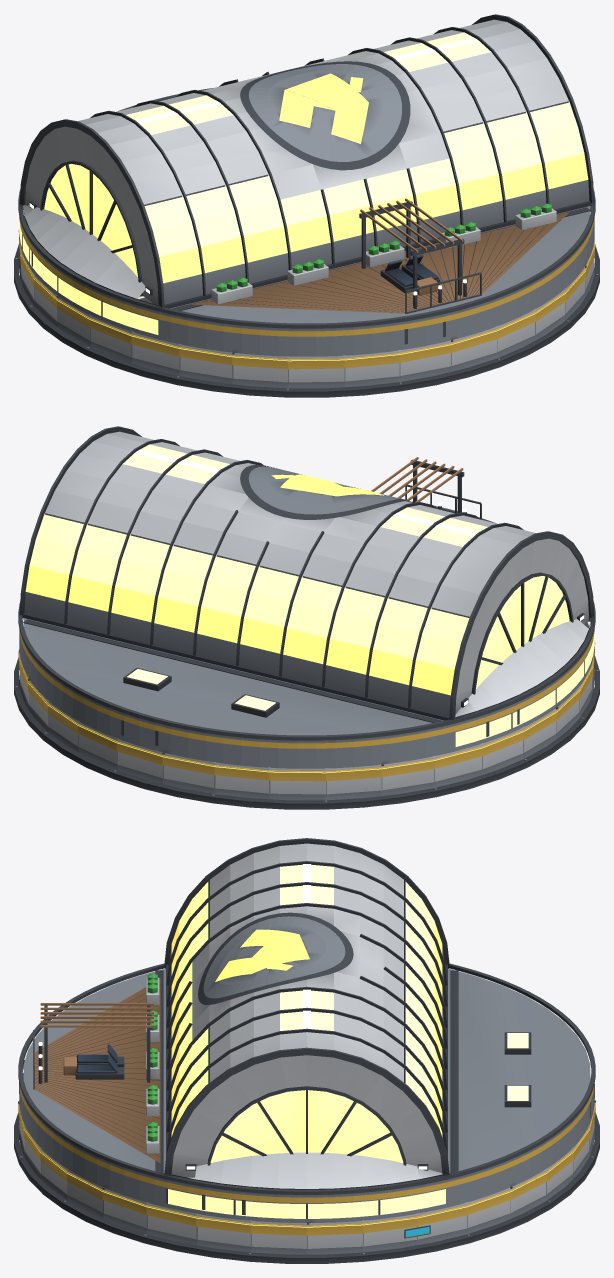
File: residence_tube_executive_l.glb
The picture shows the model from 3 angles, top to bottom: view 1: azimuth 30°, elevation 25°; view 2: azimuth 150°, elevation 25°; view 3: azimuth 270°, elevation 25°; orthographic projection.
Parts seen in each view (by area): view 1: Roof, PorchTop, Base, Wall_21, Wall_20, Wall_22, Wall_19, Wall_23, Upper_21, Upper_20, Upper_22, Wall_18 (+17 smaller); view 2: Roof, Base, PorchTop, Wall_10, Wall_11, Wall_09, Wall_12, Wall_08, Upper_10, Upper_11, Upper_09, Wall_13 (+17 smaller); view 3: Roof, PorchTop, Base, Wall_00, Wall_31, Wall_30, Wall_01, Wall_29, Upper_00, Upper_31, Upper_01, Wall_02 (+17 smaller).
Part boxes in pixels (x1,y1,x2,y2): Roof: [18, 14, 595, 328]; PorchTop: [29, 37, 569, 313]; Base: [14, 244, 599, 397]; Wall_21: [288, 355, 344, 388]; Wall_20: [232, 352, 288, 388]; Wall_22: [344, 350, 399, 387]; Wall_19: [179, 344, 232, 384]; Wall_23: [399, 340, 451, 381]; Upper_21: [288, 327, 344, 356]; Upper_20: [232, 324, 288, 356]; Upper_22: [344, 322, 399, 355]; Wall_18: [131, 331, 179, 375]; Roof: [18, 426, 595, 740]; Base: [14, 656, 599, 809]; PorchTop: [135, 449, 584, 705]; Wall_10: [269, 767, 325, 800]; Wall_11: [325, 764, 381, 800]; Wall_09: [214, 762, 269, 799]; Wall_12: [381, 756, 434, 796]; Wall_08: [162, 752, 214, 793]; Upper_10: [269, 739, 325, 768]; Upper_11: [325, 736, 381, 768]; Upper_09: [214, 734, 269, 767]; Wall_13: [434, 743, 482, 787]; Roof: [18, 838, 595, 1194]; PorchTop: [33, 864, 427, 1169]; Base: [14, 1113, 599, 1263]; Wall_00: [307, 1220, 363, 1254]; Wall_31: [250, 1220, 306, 1254]; Wall_30: [196, 1213, 250, 1252]; Wall_01: [363, 1213, 417, 1252]; Wall_29: [146, 1202, 196, 1245]; Upper_00: [307, 1192, 362, 1222]; Upper_31: [251, 1192, 306, 1222]; Upper_01: [363, 1186, 416, 1220]; Wall_02: [417, 1202, 467, 1245].
Bounding box in the file's own units: 21.75 × 8.06 × 21.75.
